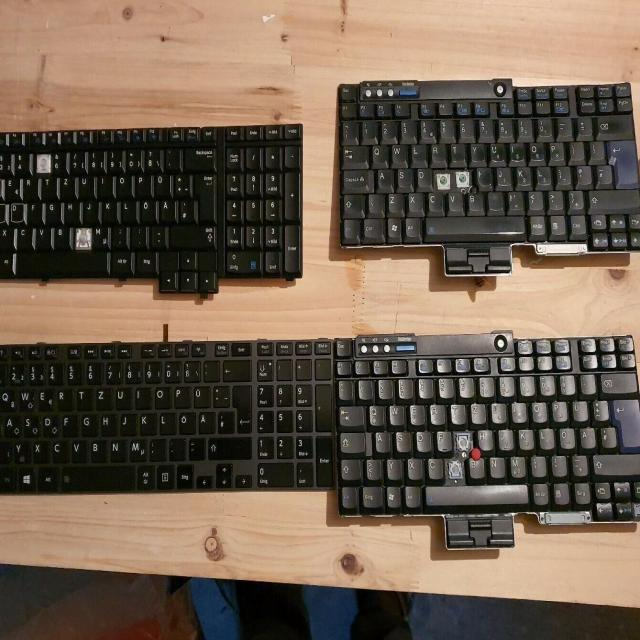keyboard: (333, 78, 640, 277), (333, 329, 640, 526), (0, 335, 336, 495), (0, 120, 305, 284)
